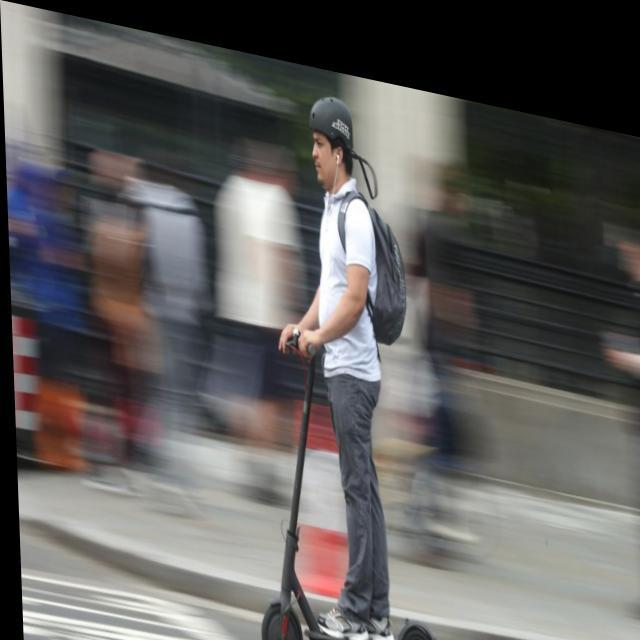Helmet: (306, 89, 363, 195)
